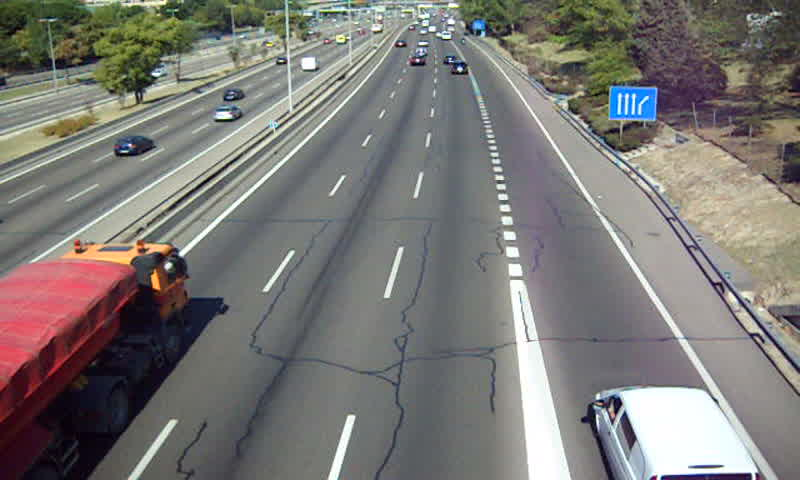car: (450, 62, 470, 76)
truck: (1, 241, 186, 480)
van: (596, 386, 762, 480)
